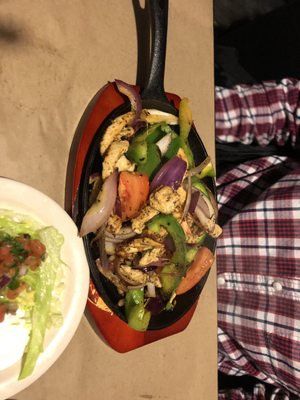sushi: (65, 78, 220, 361), (0, 175, 90, 400)
